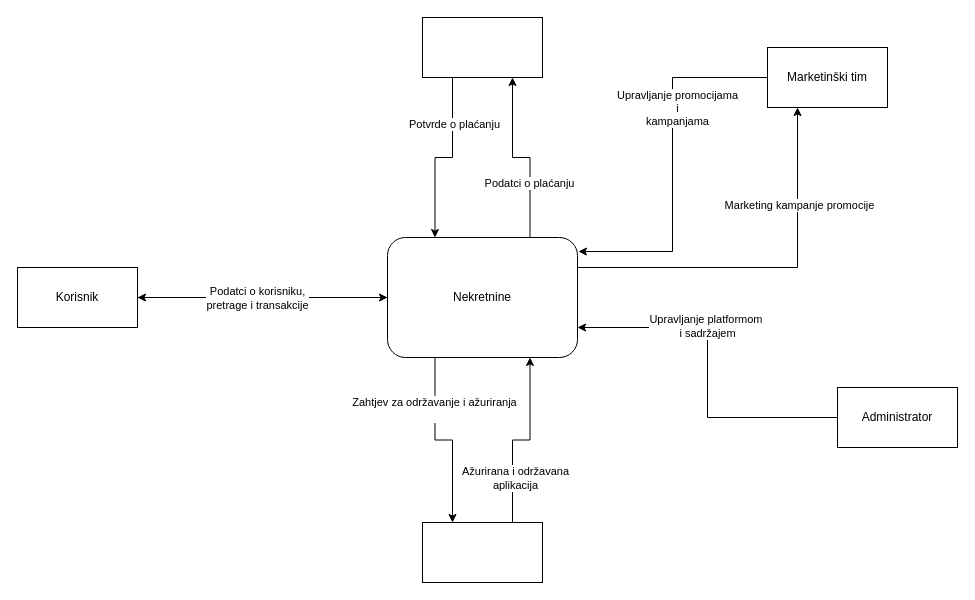
Image size: 975x600. Some labels were removed from this diagram. The box of each missing label's shape, as (x1, y1, x2, y2) in pixels:
IT podrška: (422, 522, 542, 582)
Transakcijski sustav (naplata): (422, 16, 542, 78)
